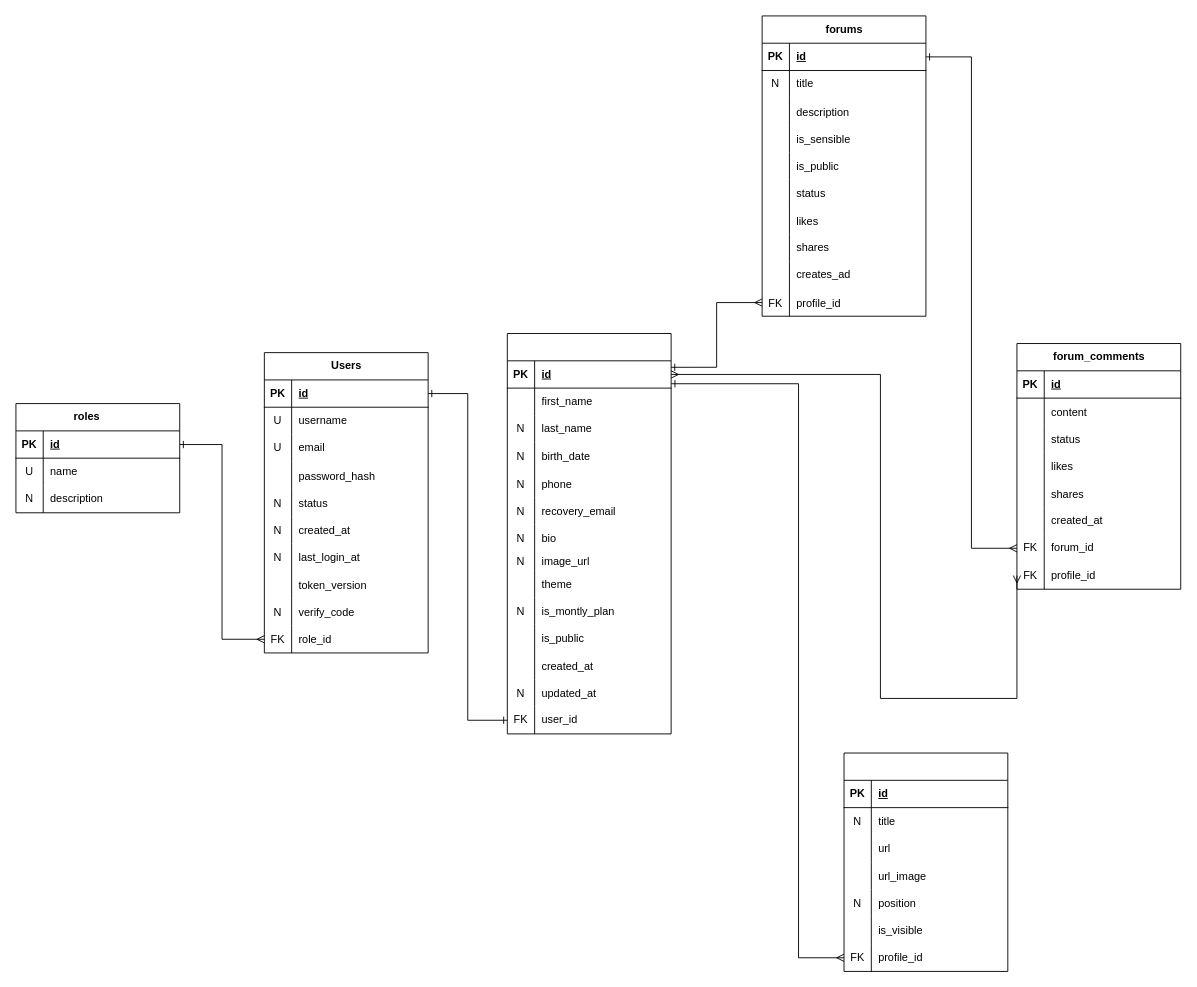
This 1197x987 diagram has some shape labels left out. The box of each missing label's shape, as (x1, y1, x2, y2) in pixels:
links: (843, 752, 1008, 971)
profiles: (506, 333, 671, 734)
